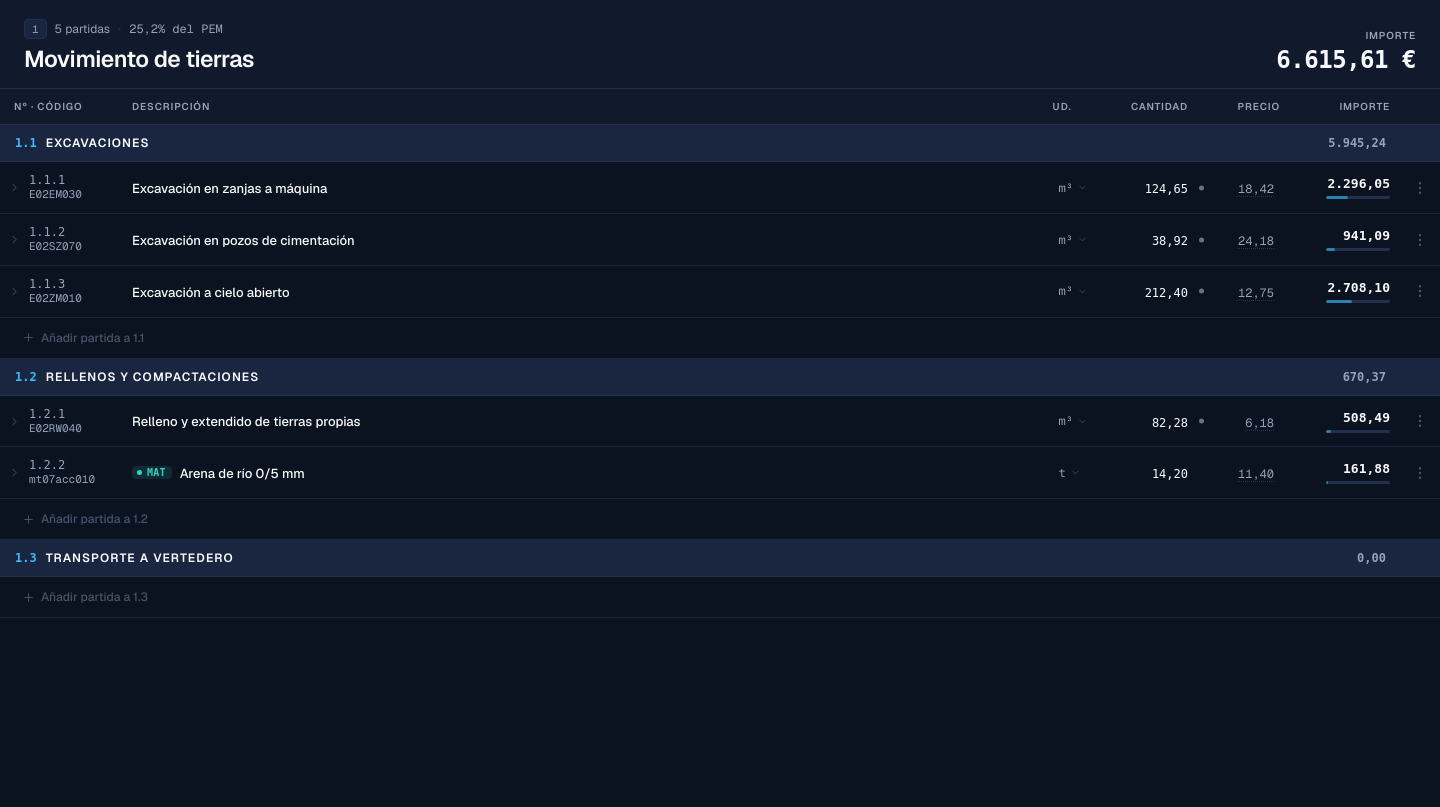
PresupuestoView (F2.1 lectura + F2.2 detalle) › desplegar una partida abre el panel de detalle (medición)
The width and height of the screenshot is (1440, 807).
Expected: the text "Añadir línea de medición" is not shown
// La celda Nº·Código no para la propagación → click despliega la fila.
Click the text "E02EM030".
click(55, 195)  # box [29,188,82,202]
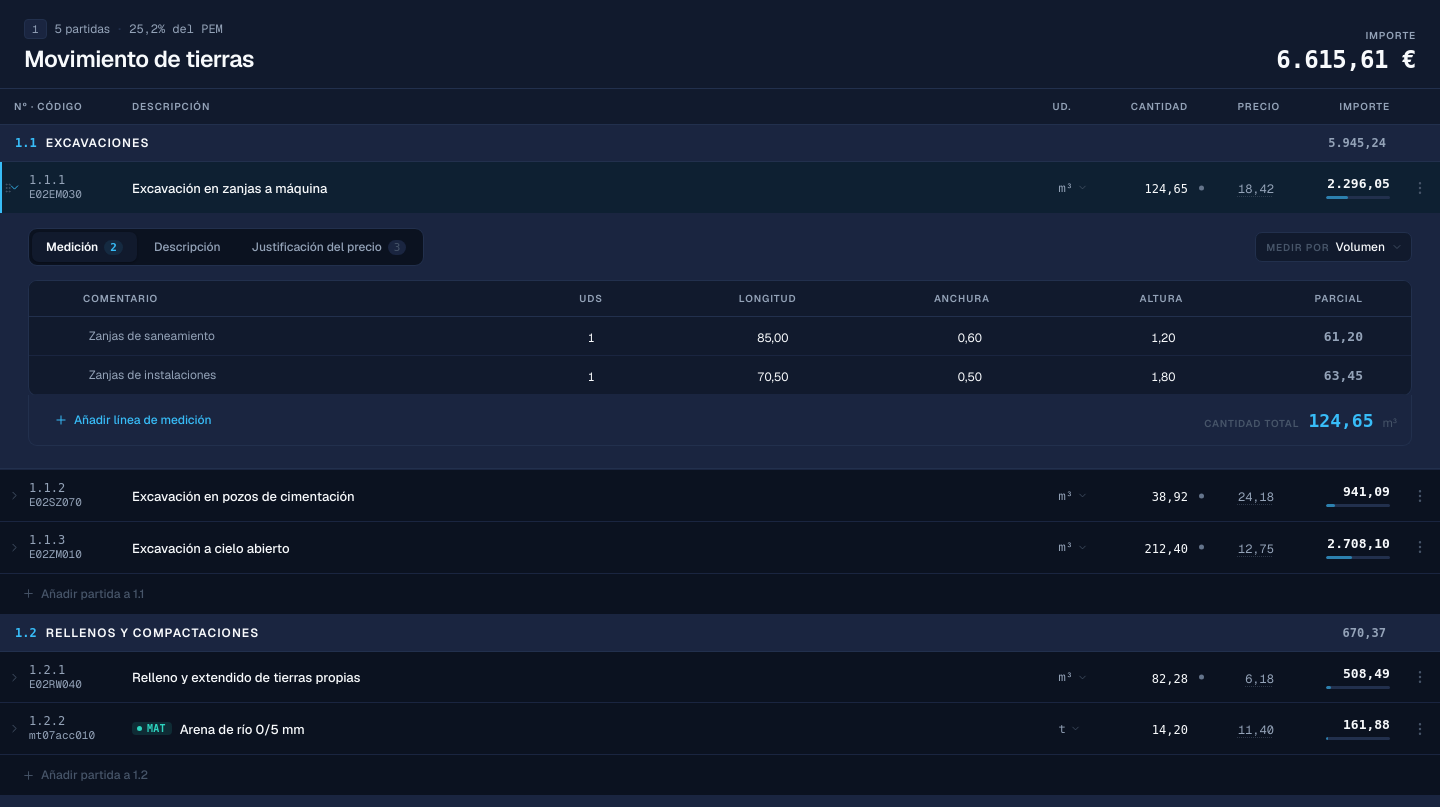
Result: the button "Añadir línea de medición" is shown at [43,405,222,435]
Result: the field "Zanjas de saneamiento" is shown at [89,328,215,344]
